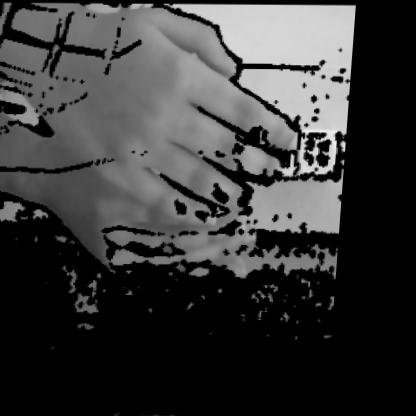dua: (0, 6, 326, 267)
